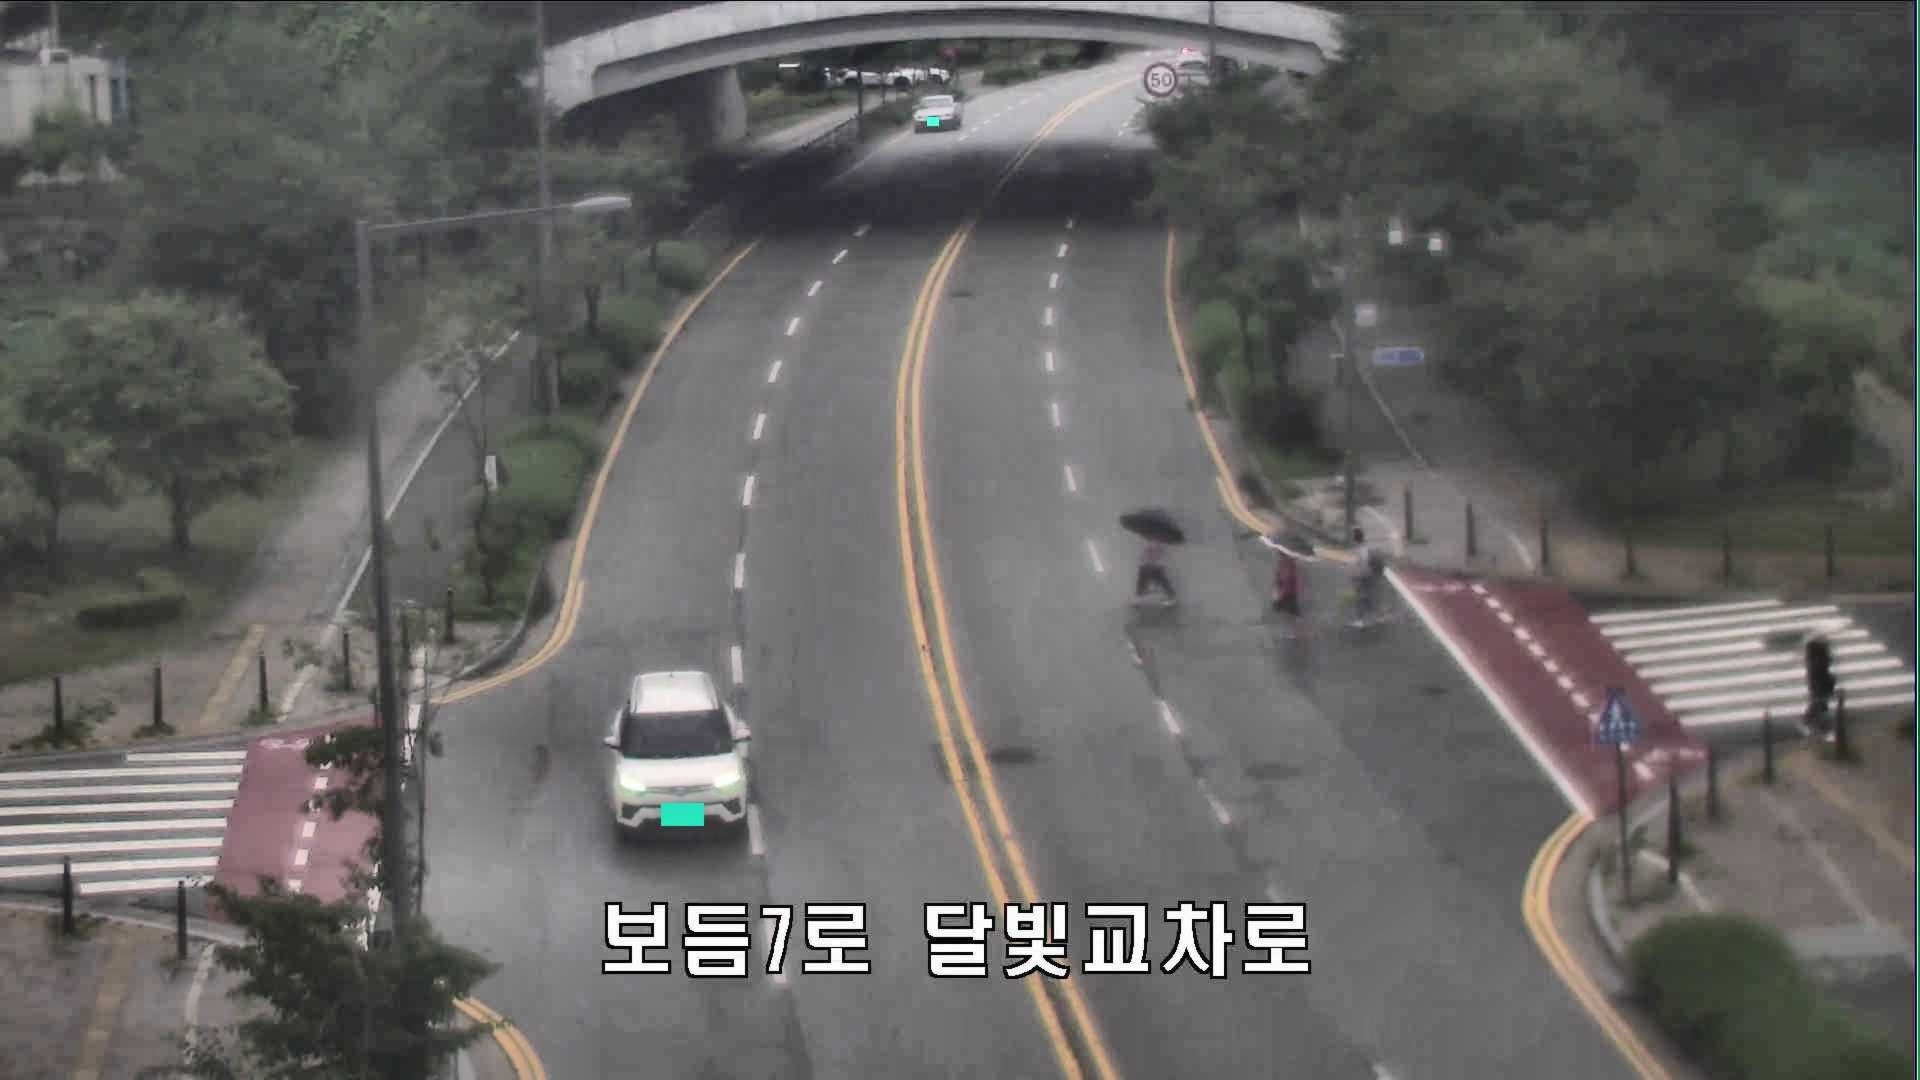jaywalk: (1352, 527, 1385, 630)
um_crosswalk: (1797, 622, 1847, 741)
um_jaywalk: (1122, 505, 1182, 615), (1255, 524, 1309, 638)
